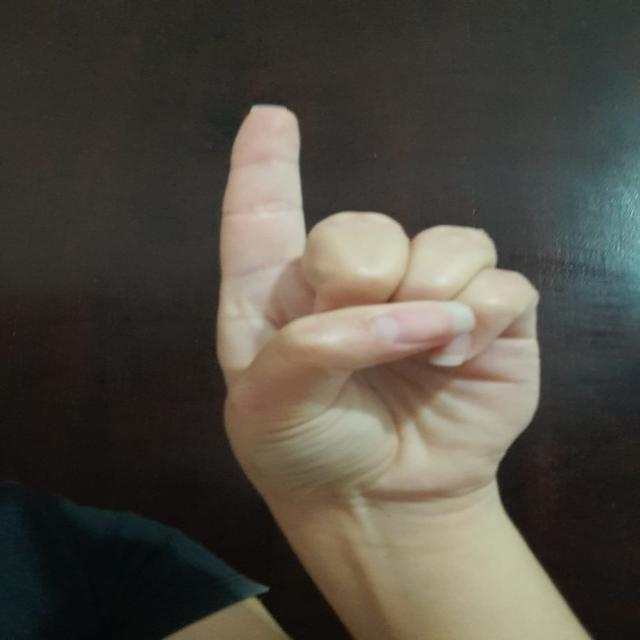D2: (185, 90, 566, 502)
